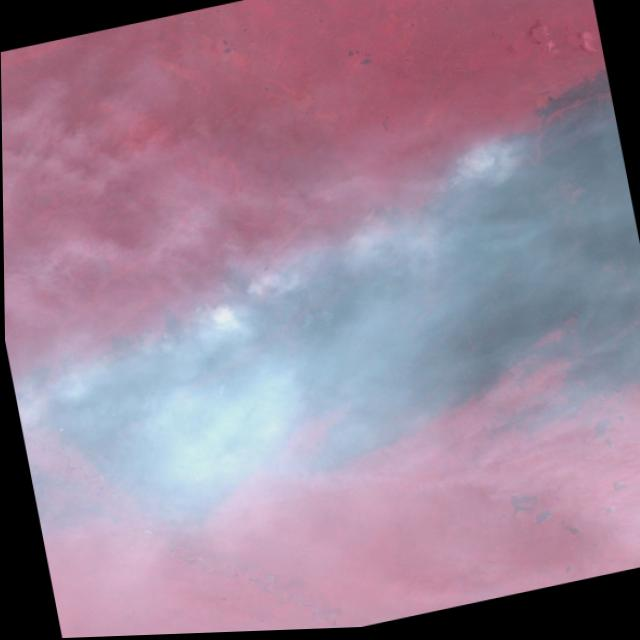fire: (2, 133, 556, 428)
